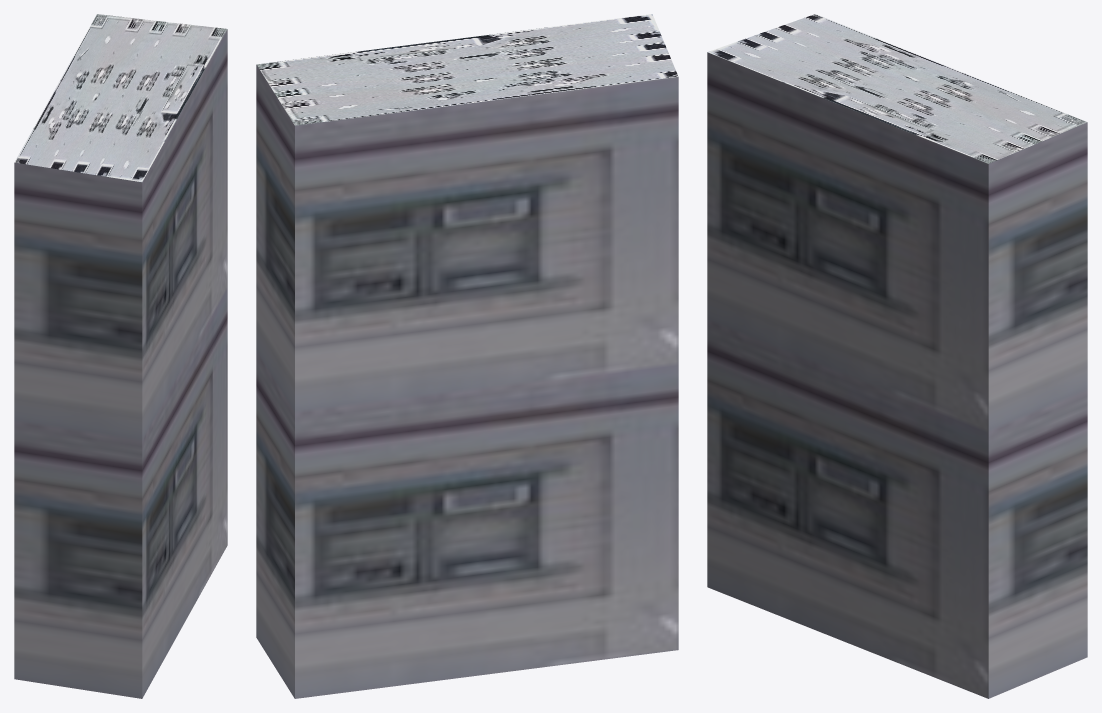
Rendered from ResTex__1724.fbx.
The picture shows the model from 3 angles, left to right: view 1: azimuth 30°, elevation 25°; view 2: azimuth 150°, elevation 25°; view 3: azimuth 270°, elevation 25°; orthographic projection. The views are drawn at different scales.
Visible parts, largest first — view 1: CityEngineMaterial_1_m, CityEngineMaterial_2_m; view 2: CityEngineMaterial_1_m, CityEngineMaterial_2_m; view 3: CityEngineMaterial_1_m, CityEngineMaterial_2_m.
Part boxes in pixels (bbox=[...]): CityEngineMaterial_1_m: bbox=[14, 29, 227, 698]; CityEngineMaterial_2_m: bbox=[14, 14, 227, 182]; CityEngineMaterial_1_m: bbox=[256, 65, 678, 698]; CityEngineMaterial_2_m: bbox=[256, 14, 678, 125]; CityEngineMaterial_1_m: bbox=[707, 52, 1087, 698]; CityEngineMaterial_2_m: bbox=[707, 14, 1087, 163].
Size of the model in its own units: 3.61 by 6 by 3.87.
Materials: 2 (2 with a texture image).
